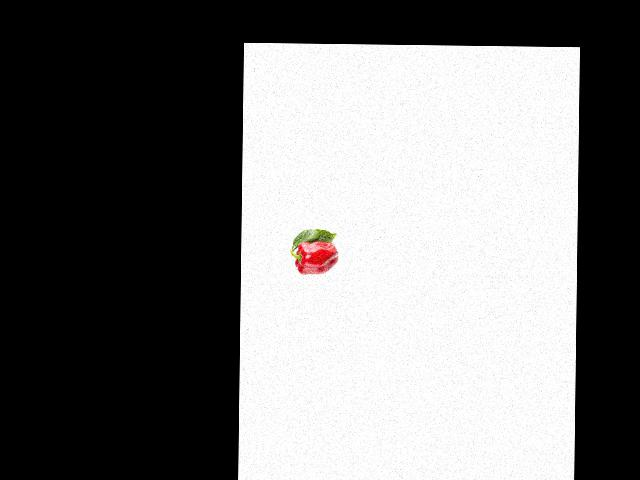bell_pepper: (290, 238, 340, 279)
